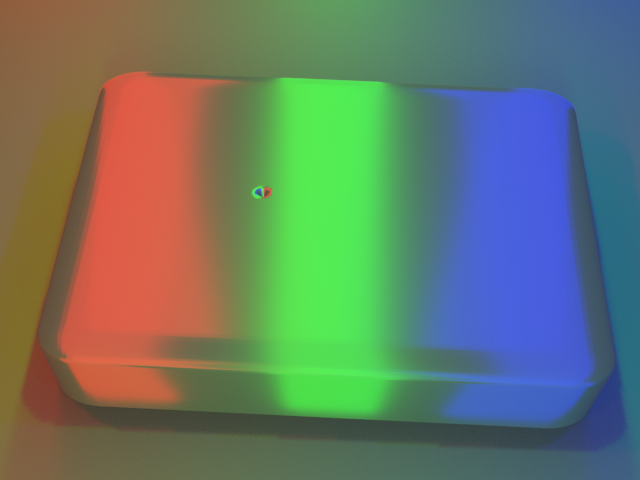dent: (238, 172, 278, 212)
